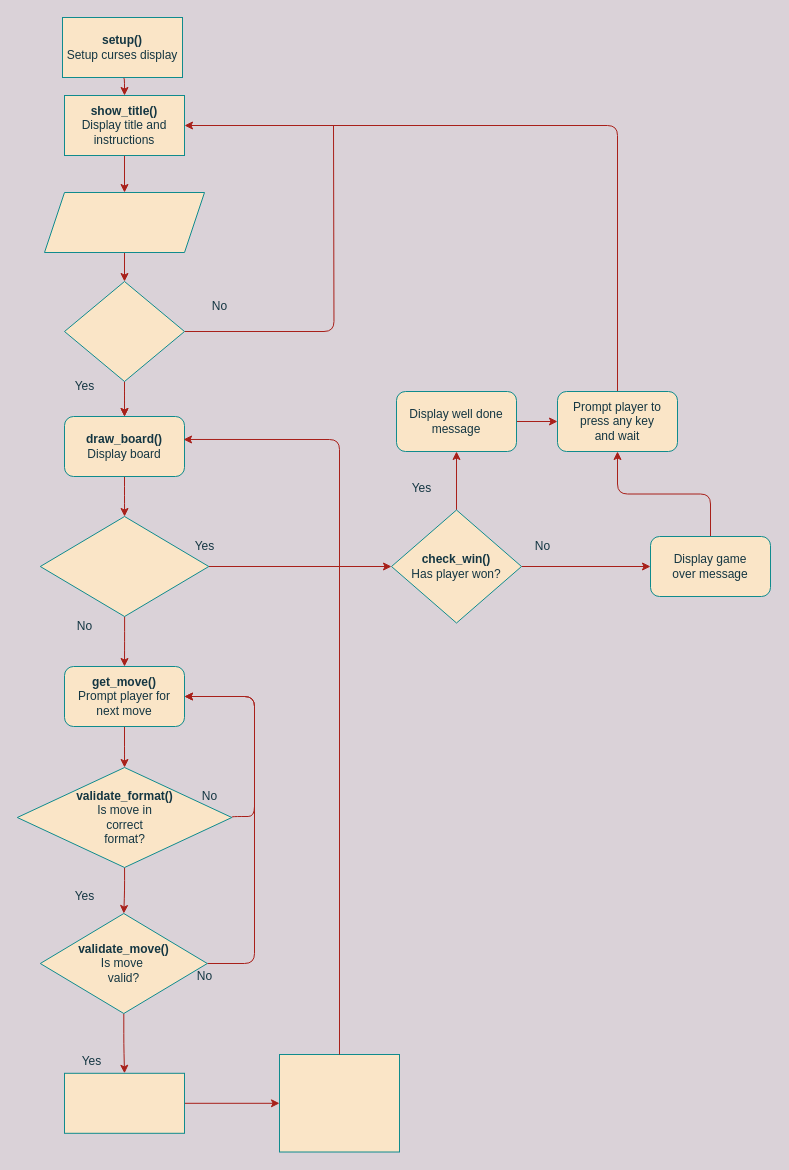
Image size: 789x1170. Some labels were removed from this diagram. The shapes that lost their labels are listed below. From the top down, each one's centre as x and y in pixels, then its label:
(x=124, y=222): Player inputs if ready to play
(x=124, y=331): Player ready?
(x=124, y=566): eval_moves() Is player out of moves?
(x=124, y=1102): board.update() Update board data model
(x=339, y=1103): update_stats() Update and display number of turns used and number of pegs left
